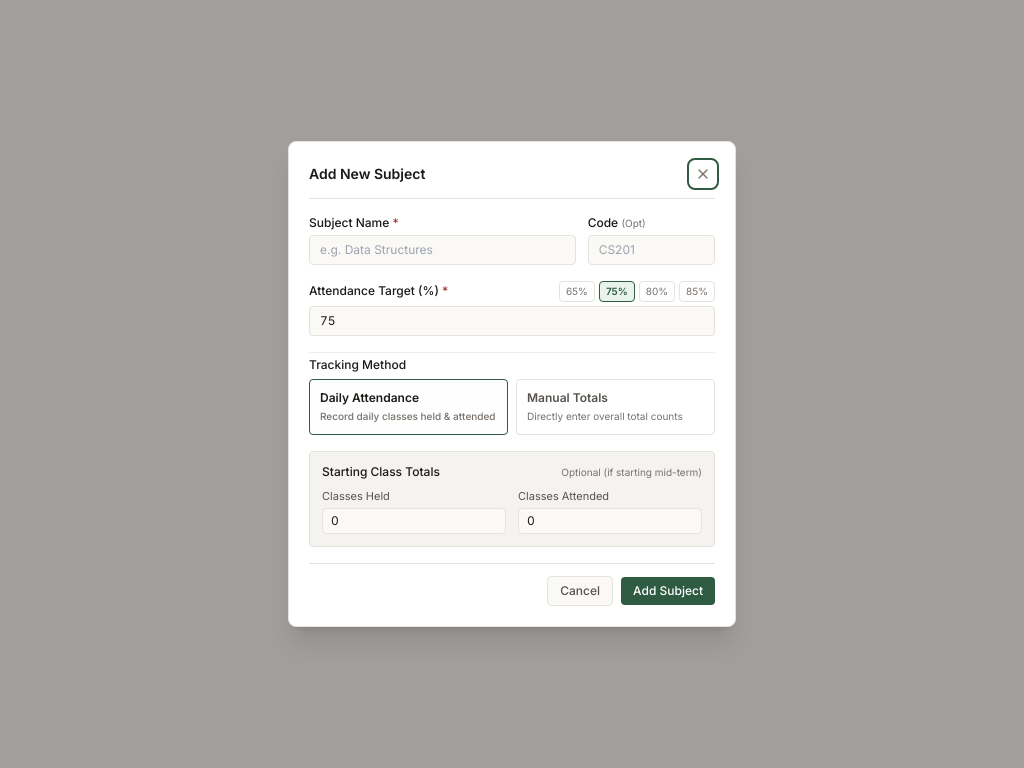
Test: SubjectForm Component › validates that classes attended cannot exceed classes held
Type "Chemistry" into the field labelled "Subject Name *". click: (442, 250)
box: [309,235,576,265]
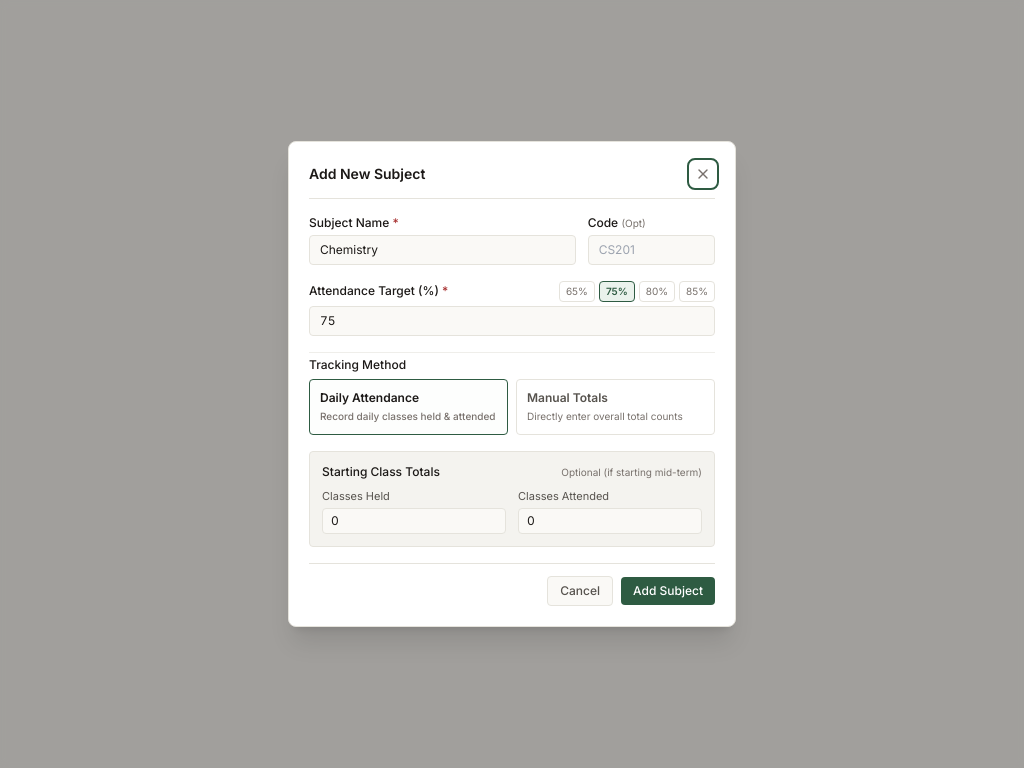
Replace the text in the number field labelled "Classes Held" with "10". click: (414, 521)
box: [322,508,506,534]
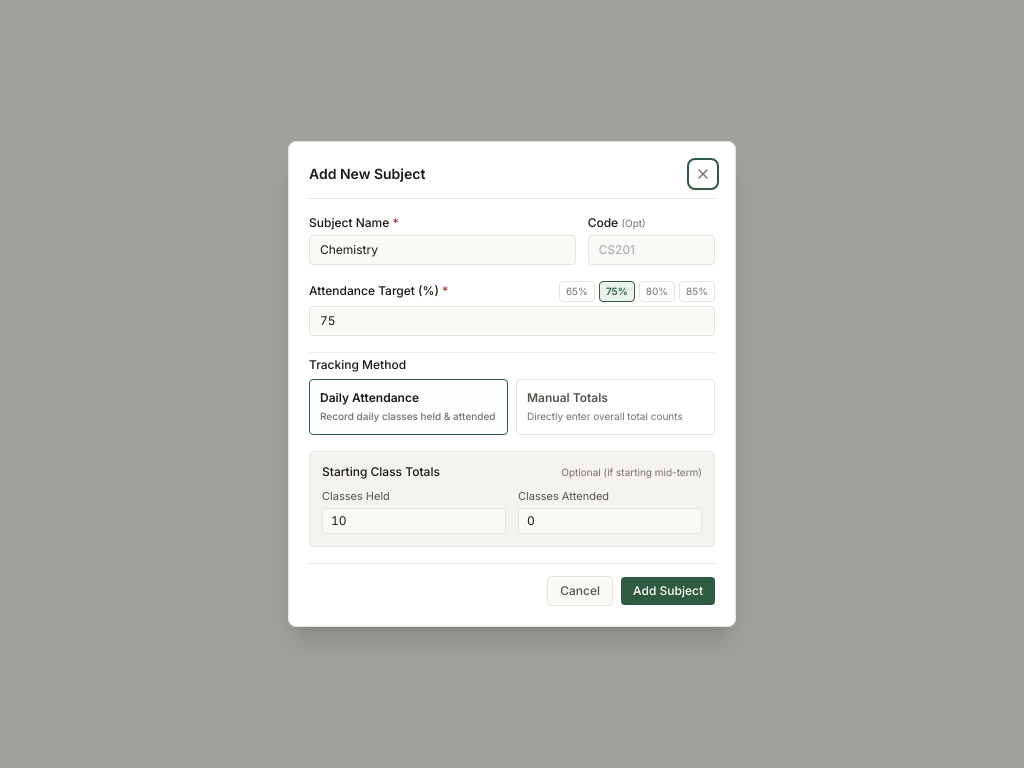
Replace the text in the number field labelled "Classes Attended" with "15". click: (610, 521)
box: [518,508,702,534]
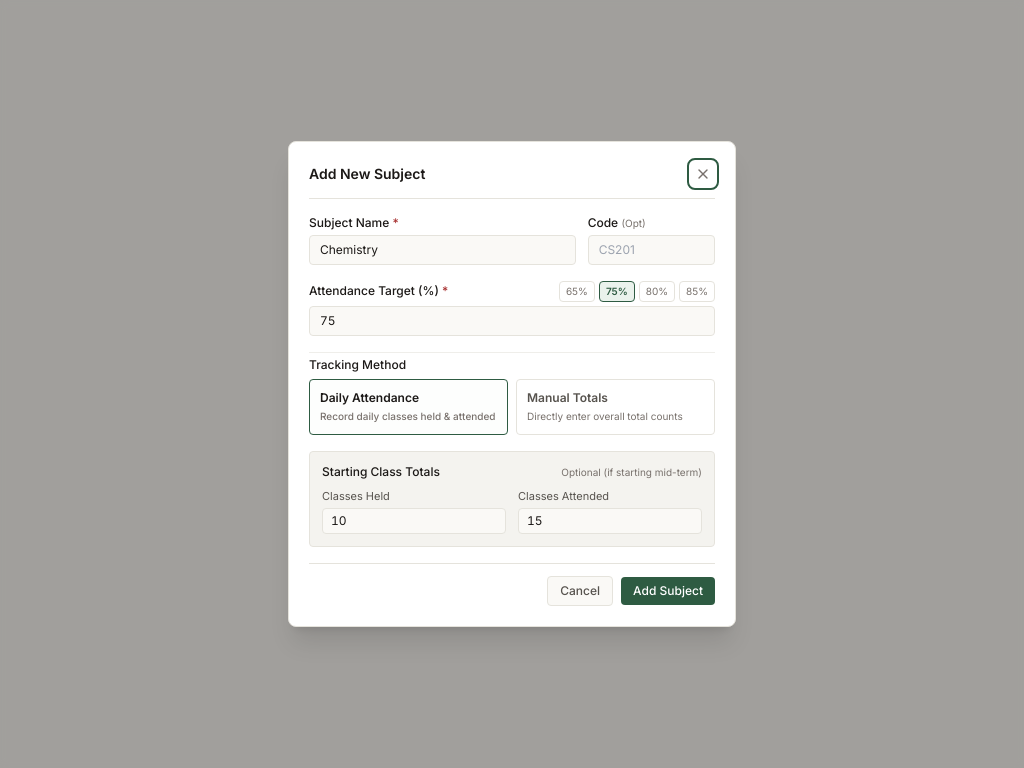
Click the button "Add Subject". click: (668, 591)
box: [621,577,715,605]
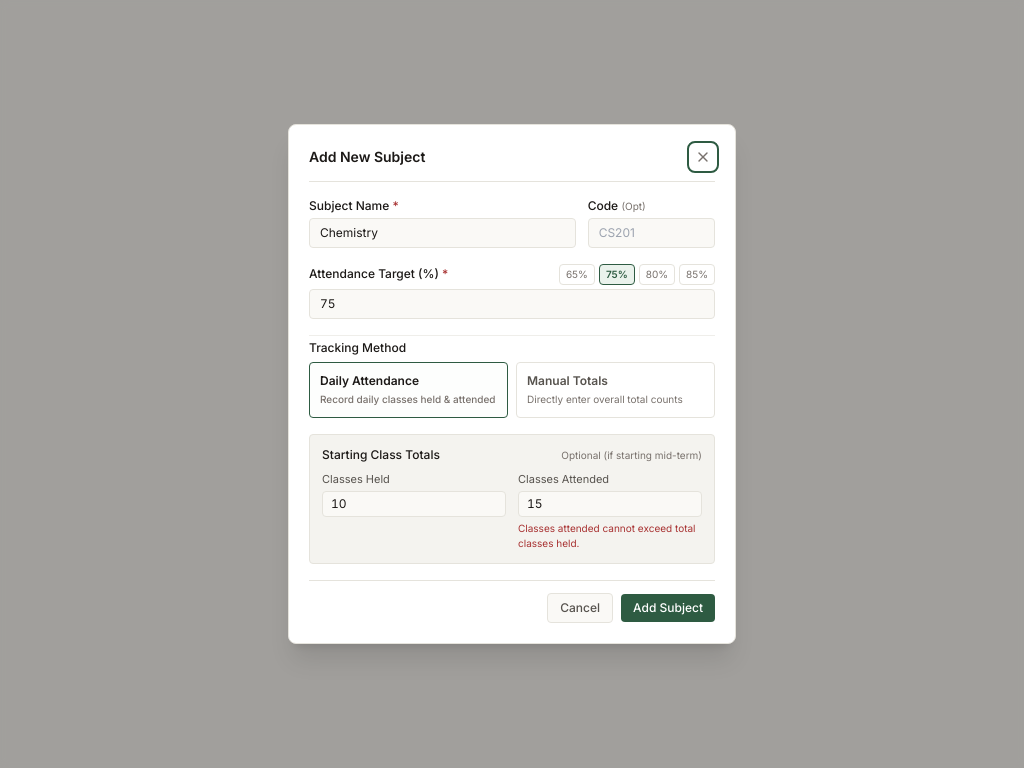
Expected: the text "Classes attended cannot exceed total classes held." is shown, [518,521,702,551]
